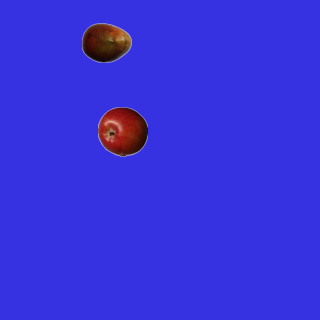Apple Braeburn: (97, 106, 147, 156)
Mango Red: (81, 17, 131, 67)
